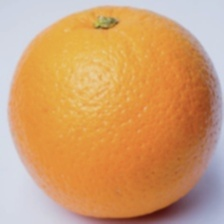orange: (31, 26, 182, 174)
